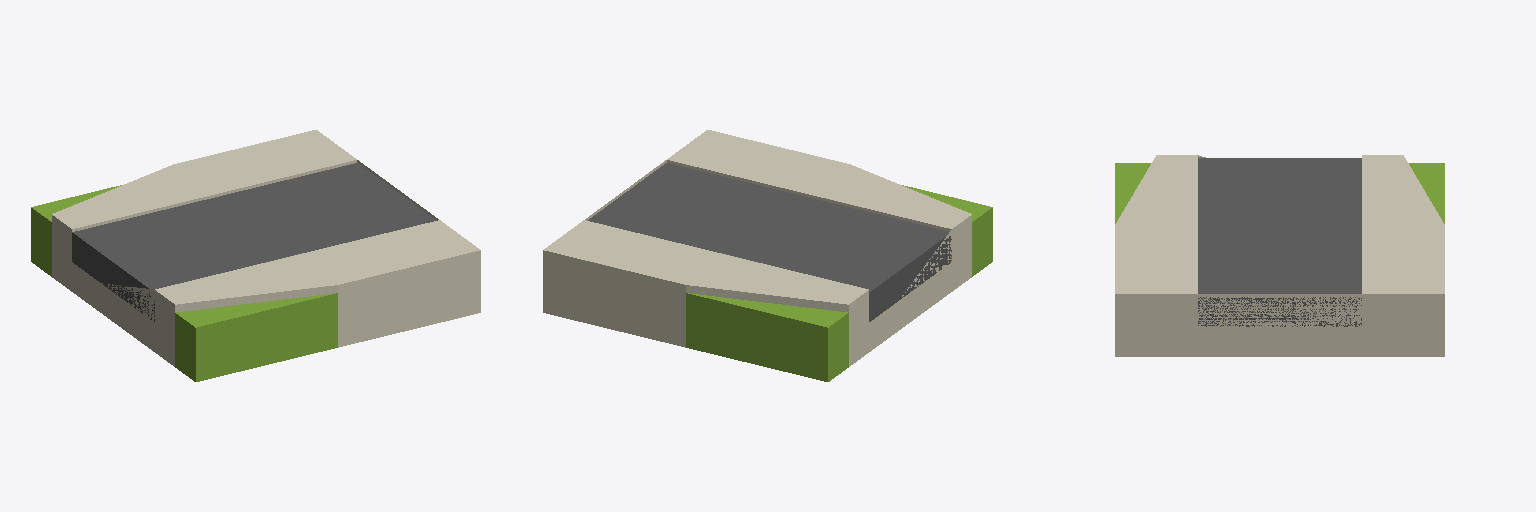
File: roadTile_031.obj
3 views of the same model, side by side, from view 1: azimuth 30°, elevation 25°; view 2: azimuth 150°, elevation 25°; view 3: azimuth 270°, elevation 25° (orthographic).
Visible parts, largest first — view 1: Mesh1 Group1 Model; view 2: Mesh1 Group1 Model; view 3: Mesh1 Group1 Model.
Part boxes in pixels (left/top/right/bottom): Mesh1 Group1 Model: left=31, top=130, right=480, bottom=381; Mesh1 Group1 Model: left=543, top=130, right=992, bottom=381; Mesh1 Group1 Model: left=1115, top=155, right=1444, bottom=356.
Size of the model in its own units: 3 by 0.63 by 3.